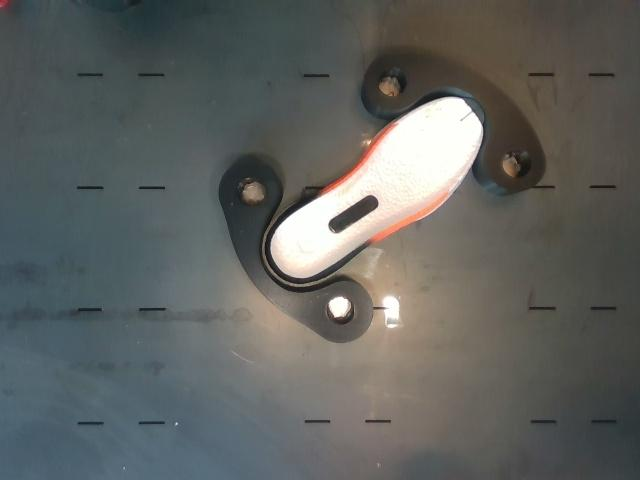shoes: (270, 99, 483, 278)
